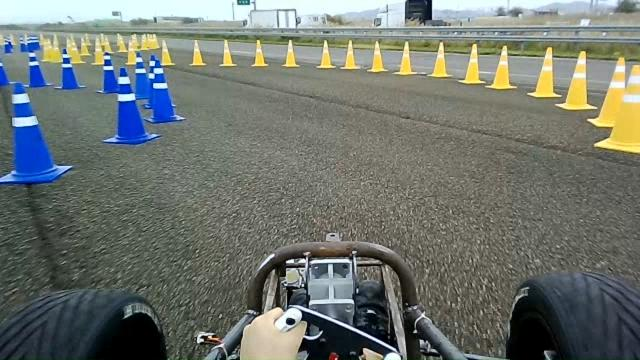blue cone: (0, 82, 73, 184), (102, 67, 161, 145), (155, 58, 177, 124), (133, 51, 151, 99)
yellow cone: (594, 64, 639, 153), (586, 56, 626, 127), (555, 50, 597, 111), (526, 46, 562, 98), (485, 44, 517, 90), (458, 43, 486, 84), (626, 64, 640, 93)
